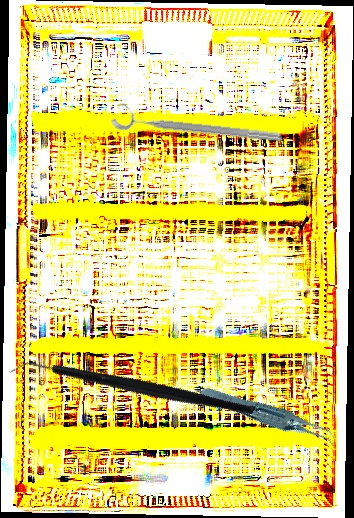Chopper: (8, 286, 256, 495)
Fixation Ring: (110, 101, 284, 147)
Tissue Forceps: (197, 360, 342, 477)
